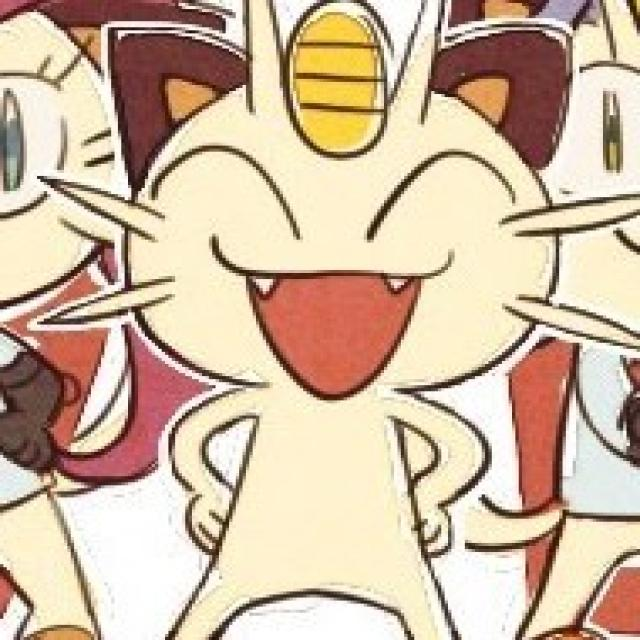Meowth: (78, 5, 586, 640)
